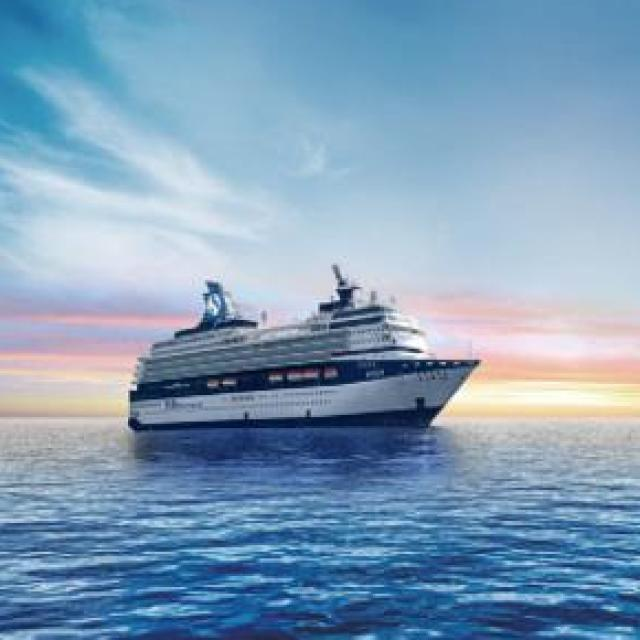passenger ship: (124, 266, 479, 428)
